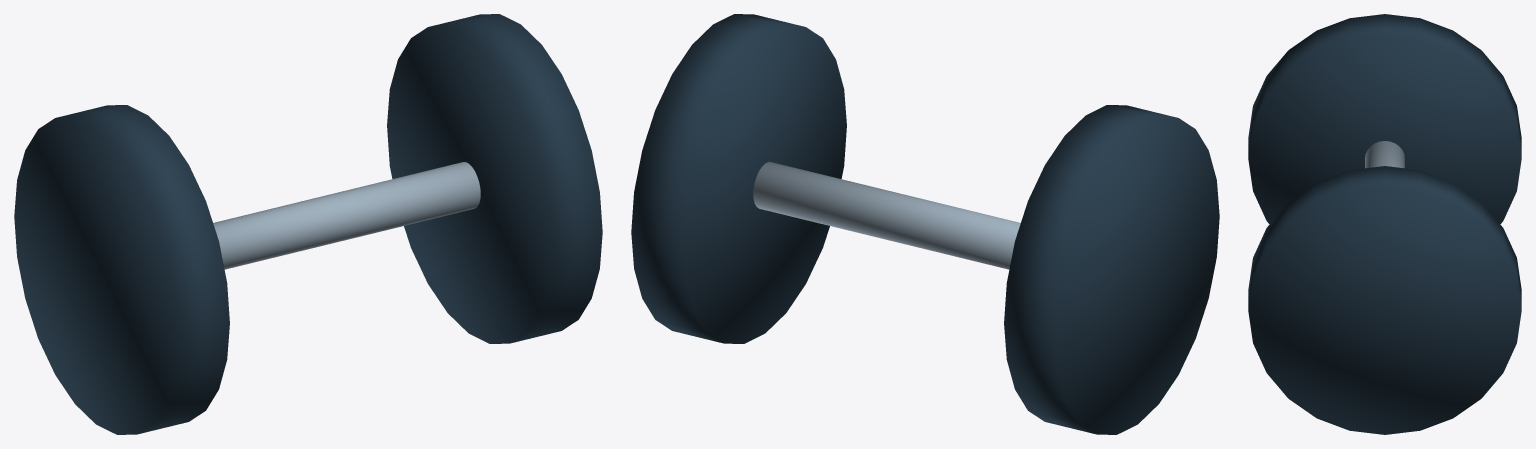
Rendered from overhead_dumbbell_a.glb.
3 views of the same model, side by side, from view 1: azimuth 30°, elevation 25°; view 2: azimuth 150°, elevation 25°; view 3: azimuth 270°, elevation 25° (orthographic). The views are drawn at different scales.
Visible parts, largest first — view 1: weights, shaft; view 2: weights, shaft; view 3: weights, shaft.
Boxes of the visible parts, left/top/right/bottom form: weights: left=14, top=14, right=602, bottom=434; shaft: left=213, top=162, right=480, bottom=269; weights: left=631, top=14, right=1219, bottom=434; shaft: left=753, top=162, right=1020, bottom=269; weights: left=1248, top=14, right=1521, bottom=434; shaft: left=1365, top=141, right=1404, bottom=168.
Bounding box in the file's own units: 0.285 × 0.19 × 0.19.
